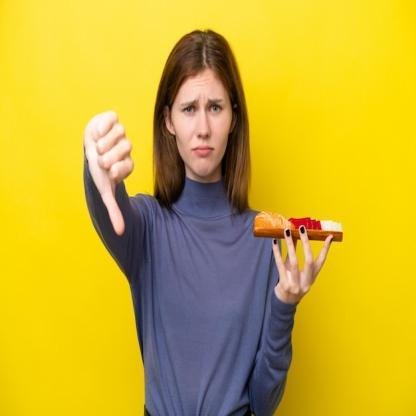thumb_down: (83, 108, 137, 238)
